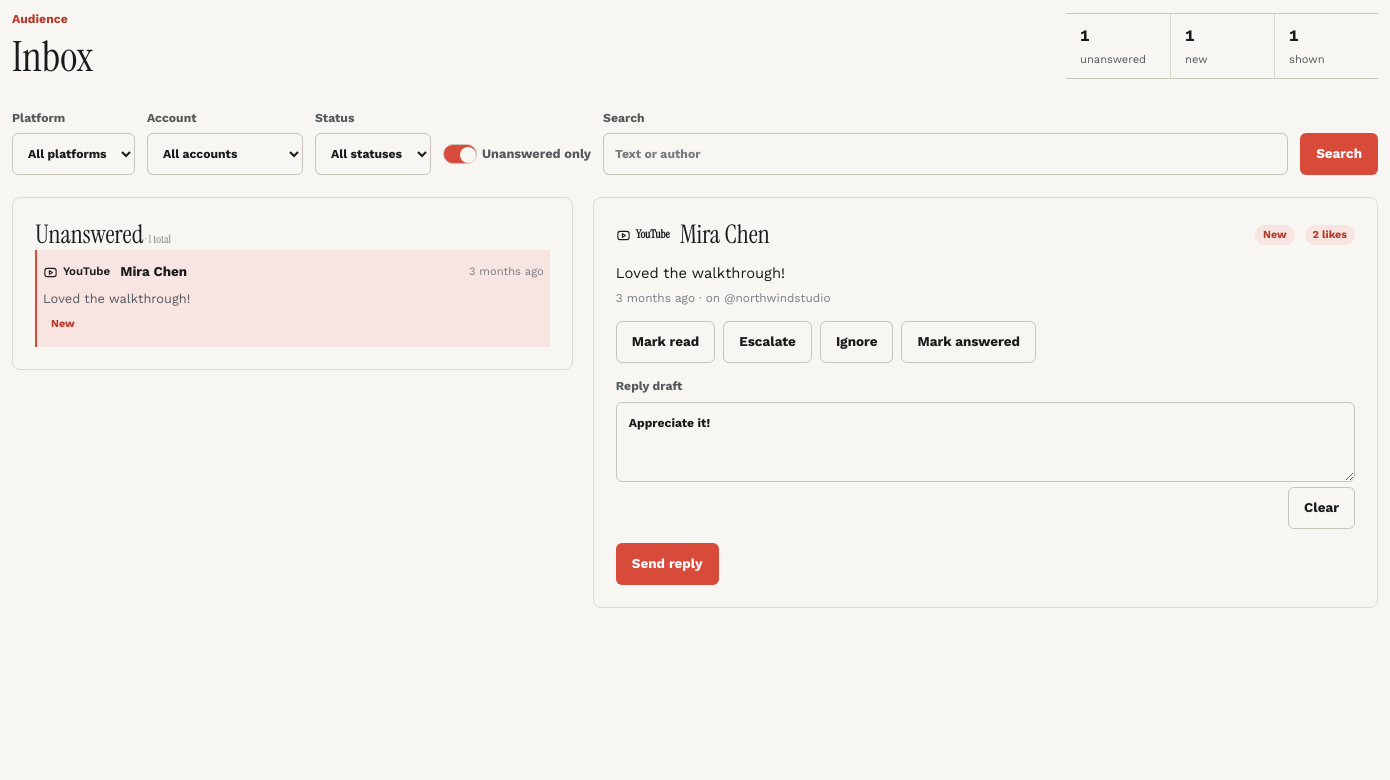
InboxWorkspace › sends a reply after the confirm step and shows verified success
Click the button "Send reply" at (667, 564), box left=616, top=543, right=718, bottom=585
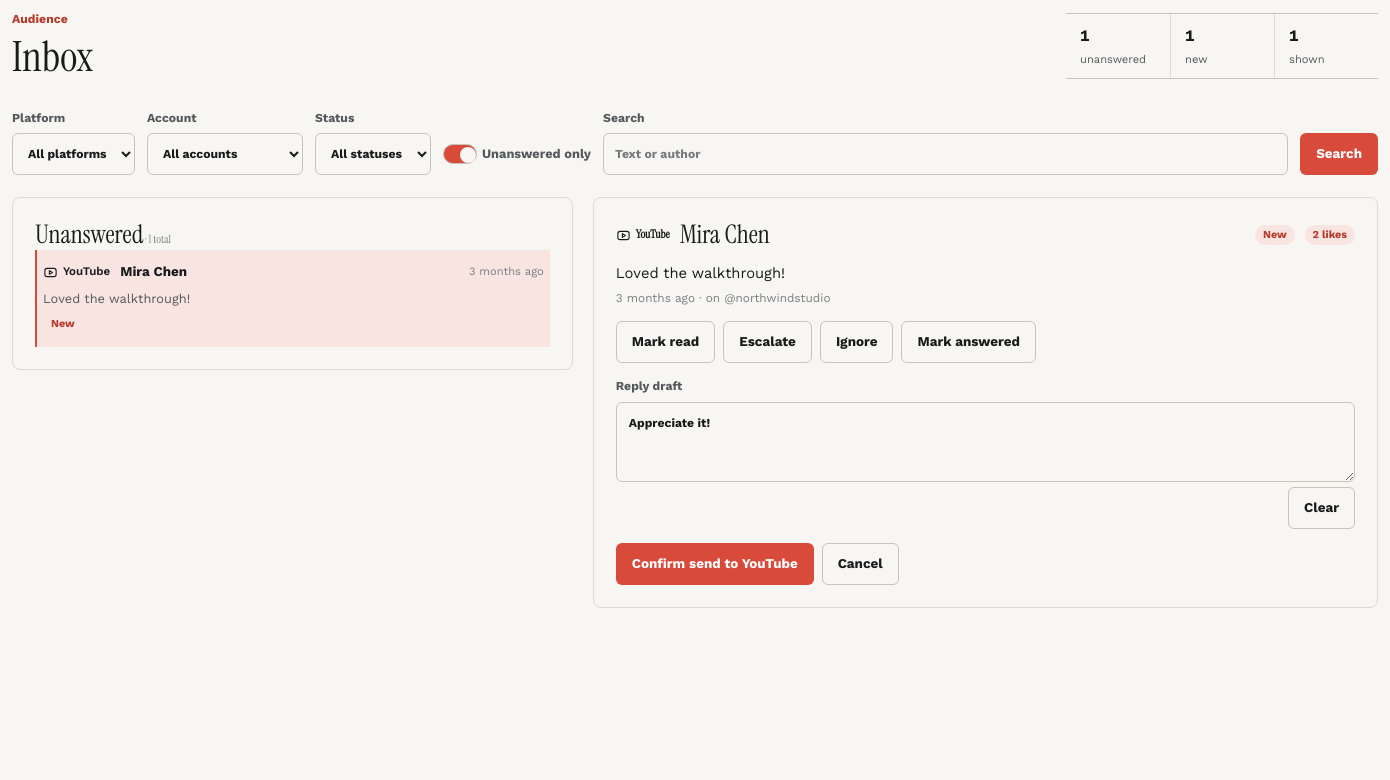
Click the button "Confirm send to YouTube" at (715, 564), box left=616, top=543, right=814, bottom=585
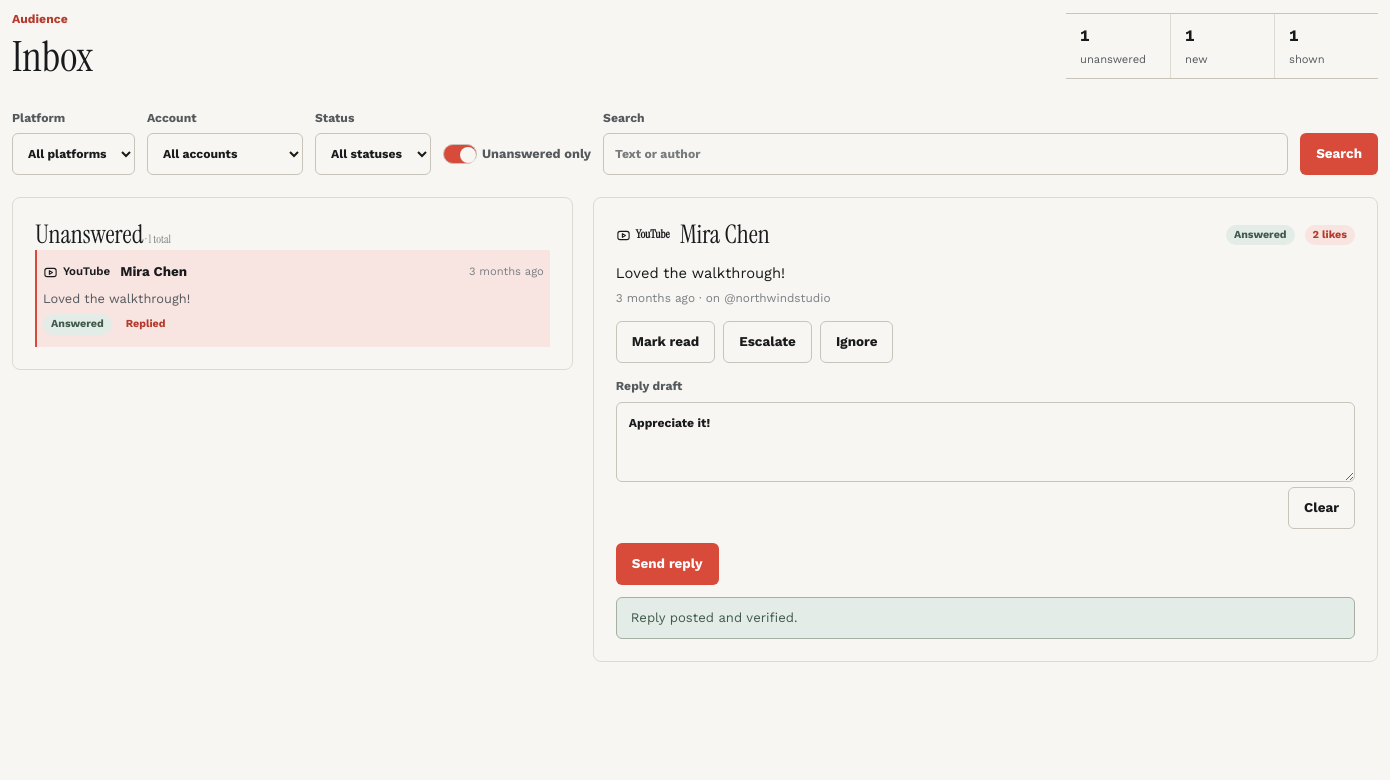
Check: the text "Reply posted and verified." is shown, box left=616, top=597, right=1355, bottom=639
